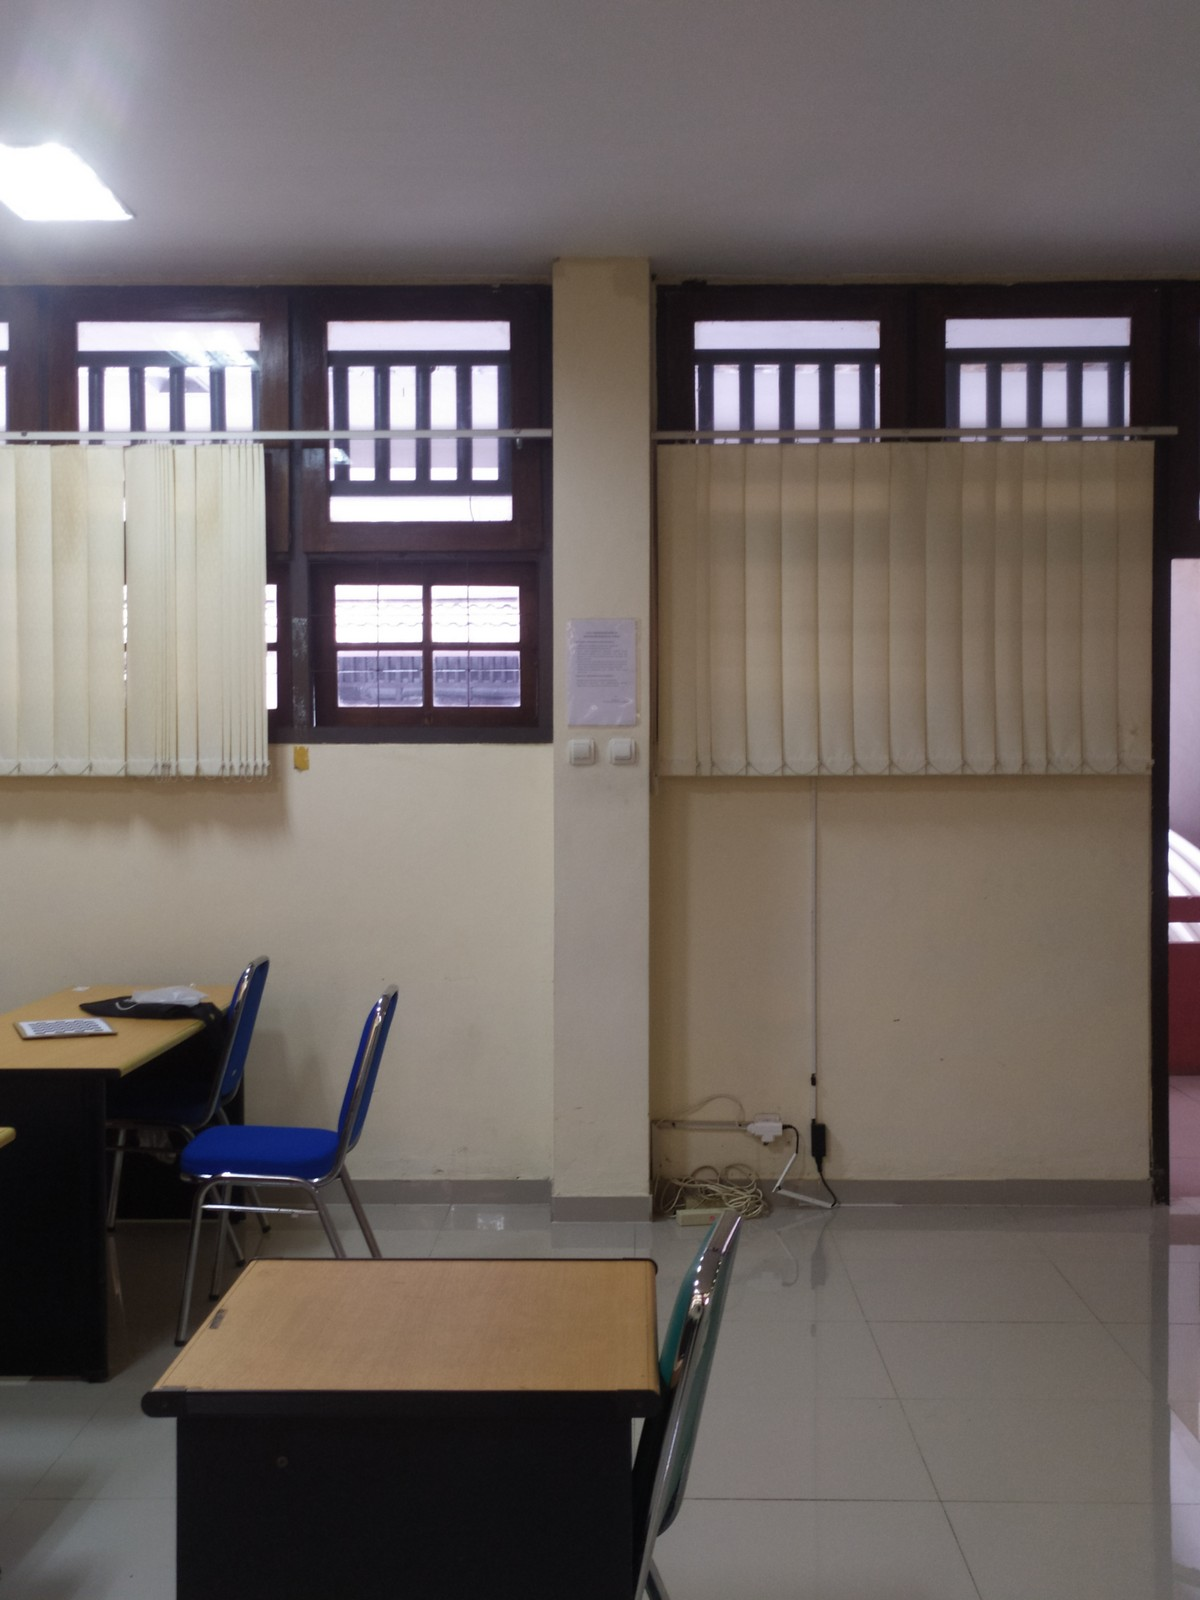concrete column: (537, 239, 668, 1222)
